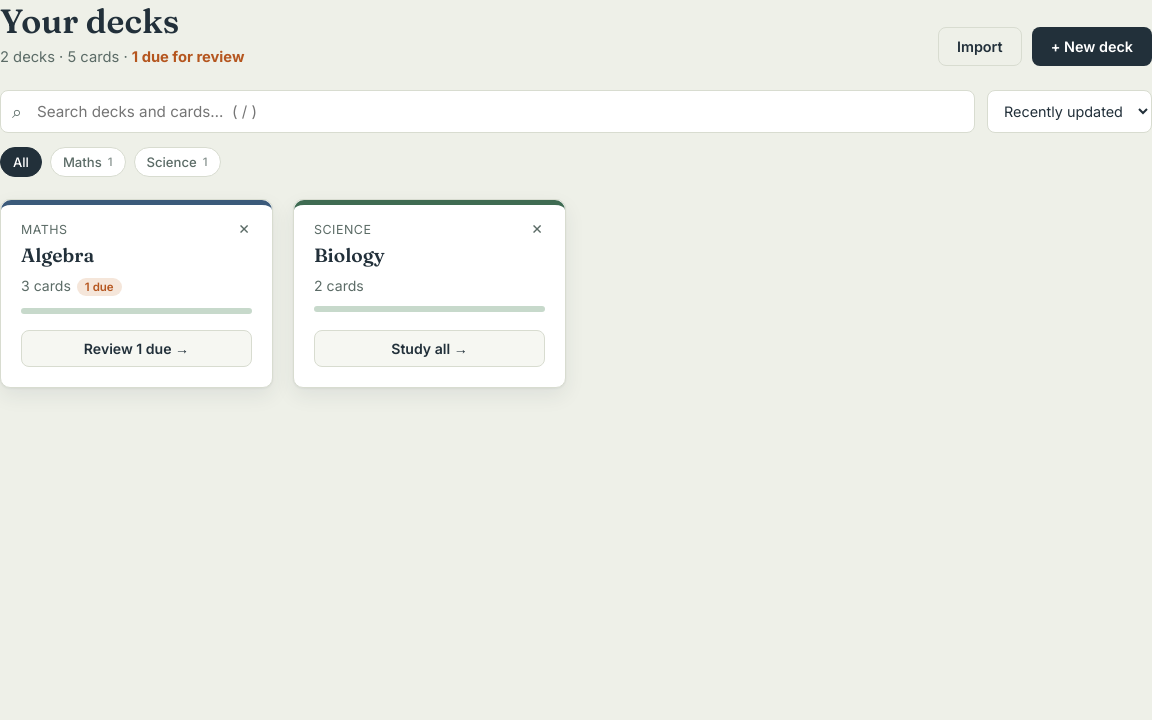
Scenario: DashboardPage › deletes a deck after confirmation
Expected: the link "Algebra" is shown, [21,243,94,267]
Click the button named "Delete Algebra". click: (244, 228)
box: [230,214,258,242]
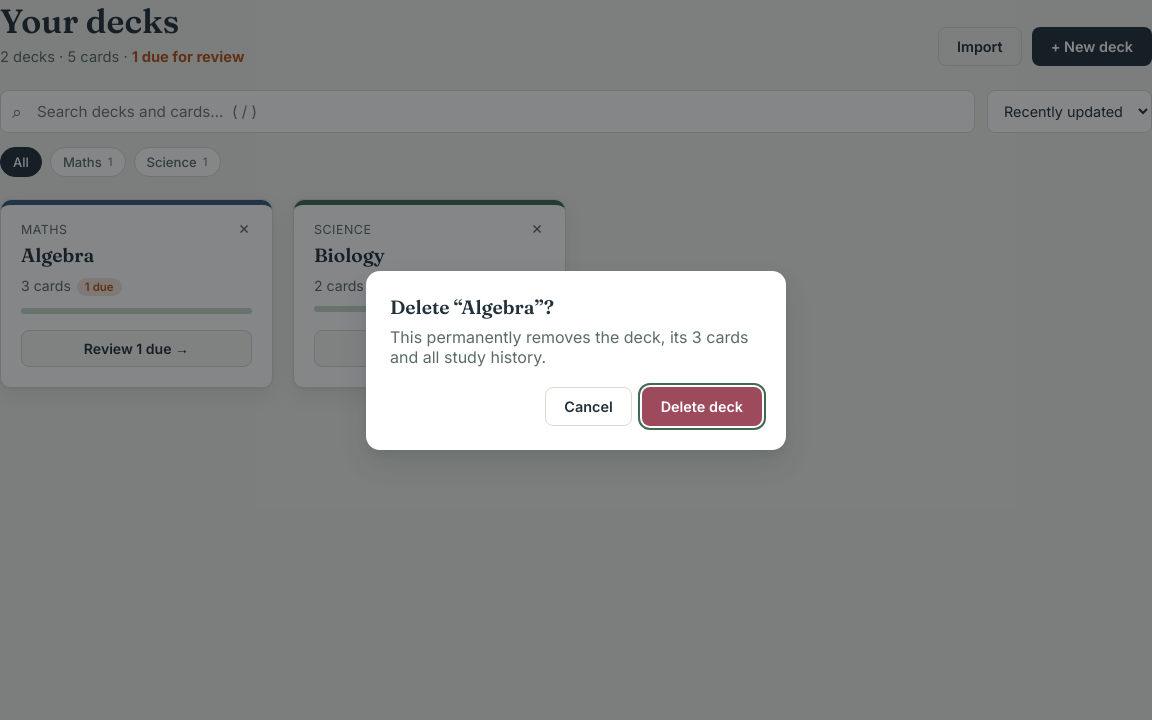
Click the button "Delete deck". click: (702, 406)
box: [642,386,762,426]
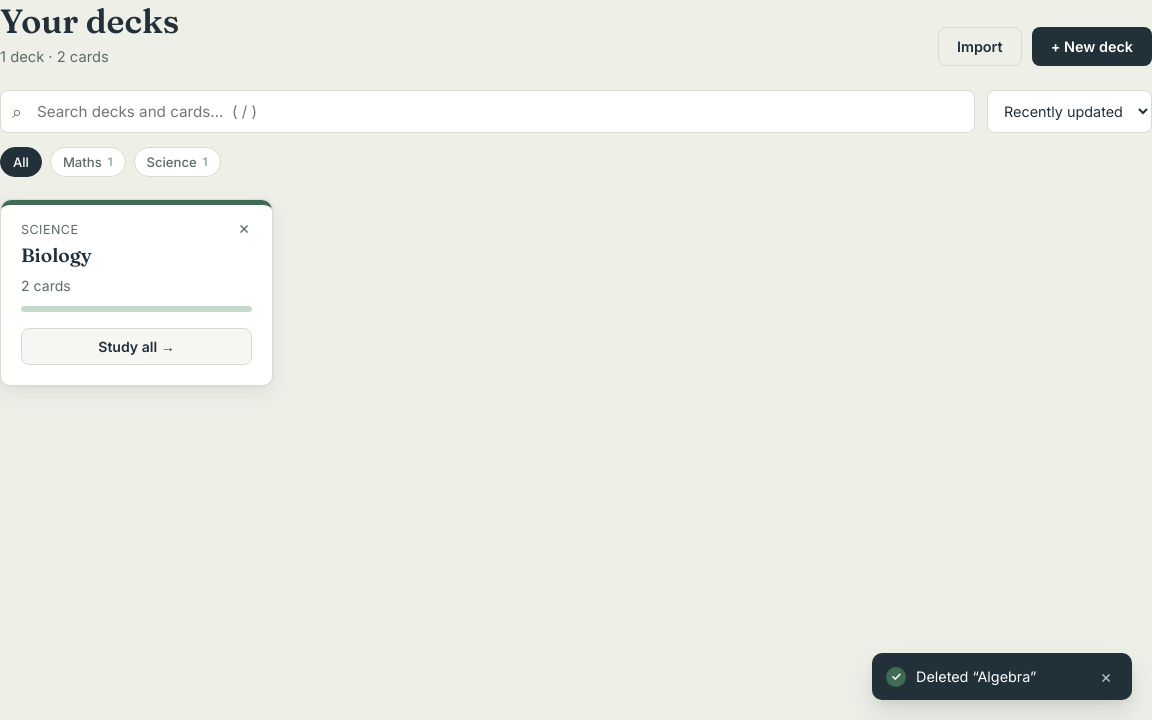
Expected: the text "Deleted “Algebra”" is shown, [916,668,1036,685]
